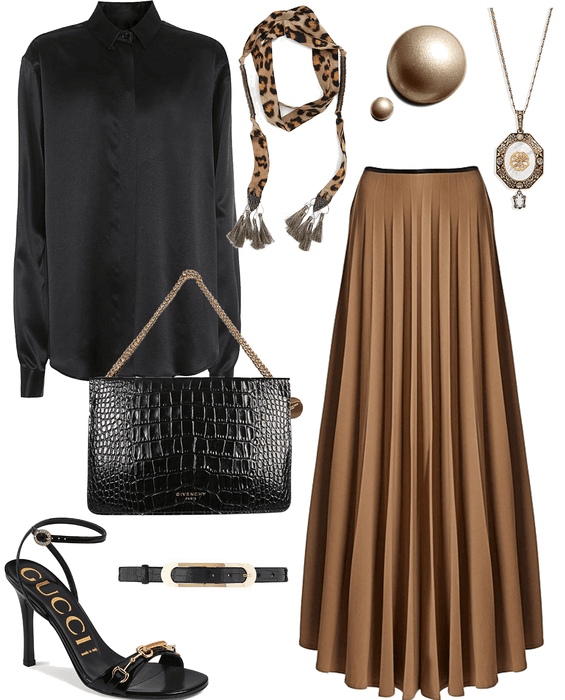аксесуары: (472, 0, 565, 219)
рубашка: (6, 0, 245, 392)
сумка: (296, 172, 544, 690), (72, 365, 303, 522)
туфли: (7, 506, 206, 700)
